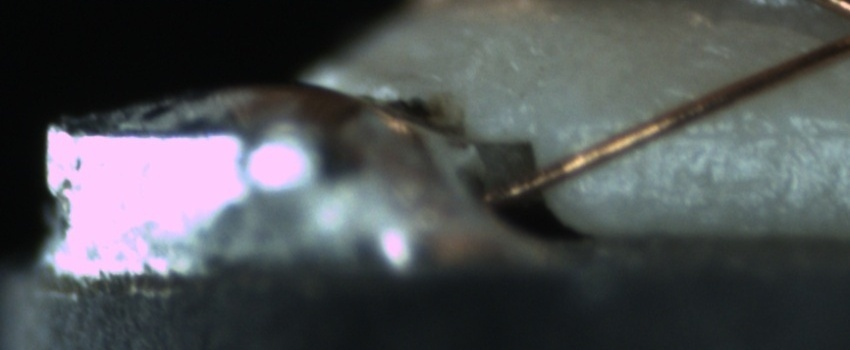DL: (608, 100, 850, 163)
